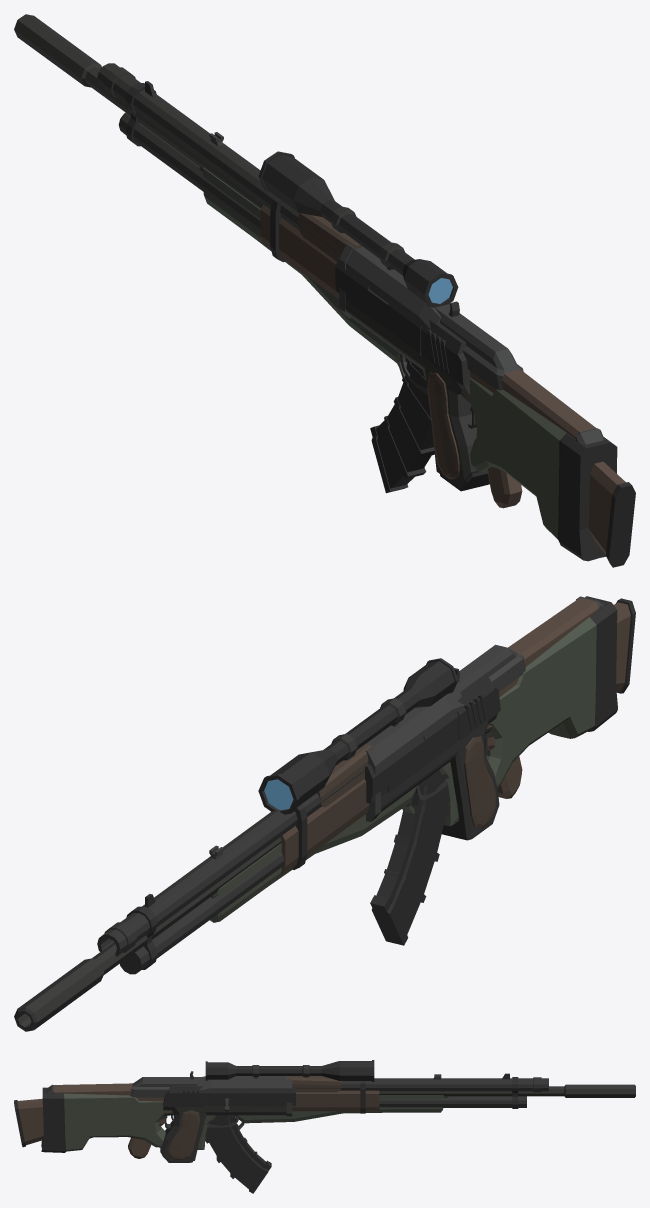
The model's file is guns.glb.
The picture shows the model from 3 angles, top to bottom: view 1: azimuth 30°, elevation 25°; view 2: azimuth 150°, elevation 25°; view 3: azimuth 270°, elevation 25°; orthographic projection. The views are drawn at different scales.
Parts seen in each view (by area): view 1: sniper, shotgun, rifle, deagle; view 2: sniper, shotgun, rifle, deagle; view 3: sniper, shotgun, rifle, deagle.
Part boxes in pixels (left/top/right/bottom): sniper: left=14, top=14, right=617, bottom=561; shotgun: left=97, top=63, right=603, bottom=444; rifle: left=199, top=132, right=635, bottom=567; deagle: left=335, top=254, right=489, bottom=491; sniper: left=14, top=596, right=617, bottom=1031; shotgun: left=97, top=596, right=603, bottom=974; rifle: left=209, top=598, right=635, bottom=945; deagle: left=365, top=677, right=500, bottom=840; sniper: left=41, top=1060, right=635, bottom=1152; shotgun: left=46, top=1071, right=548, bottom=1138; rifle: left=14, top=1074, right=448, bottom=1193; deagle: left=160, top=1085, right=295, bottom=1162.
Bounding box in the file's own units: 0.0813 × 0.3165 × 1.36.
